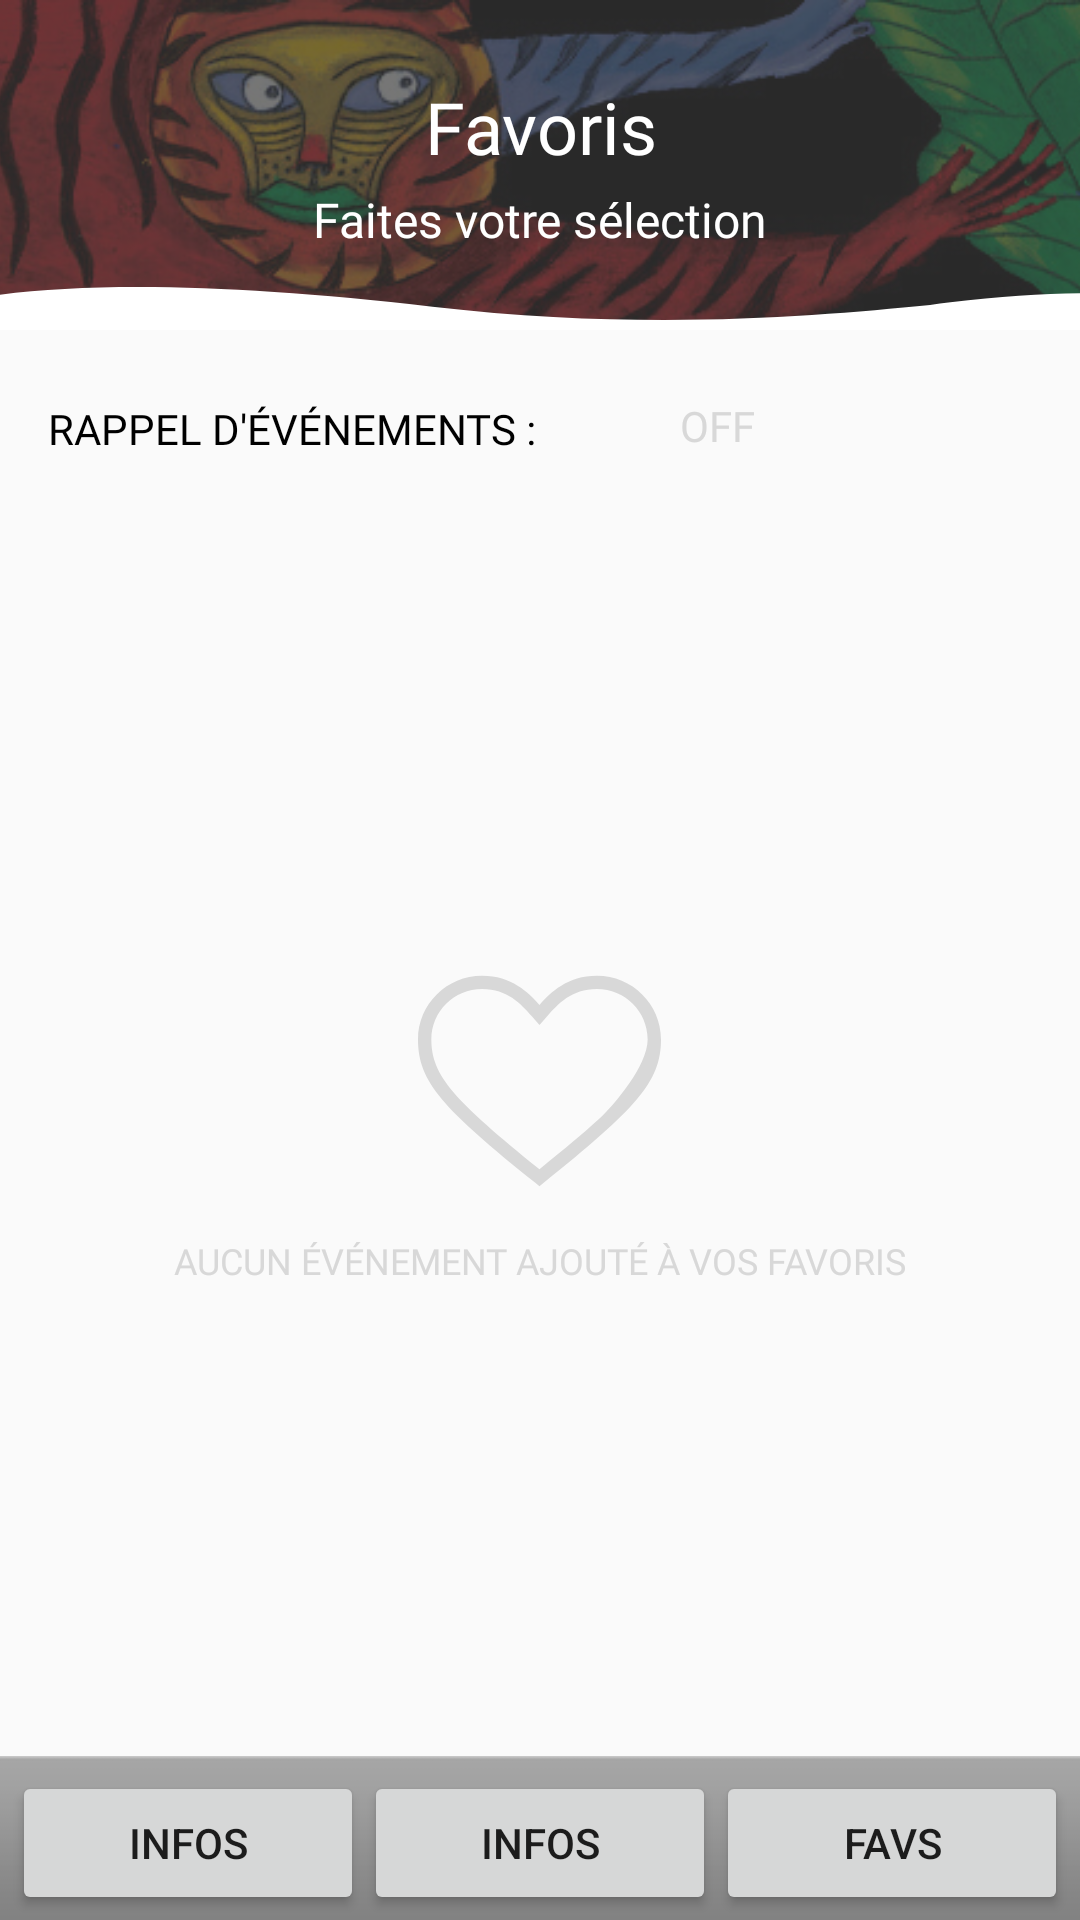

Point at icon controls on the screen. Image size 1080px×1920px, points as point (x, y).
heart: point (539, 1081)
